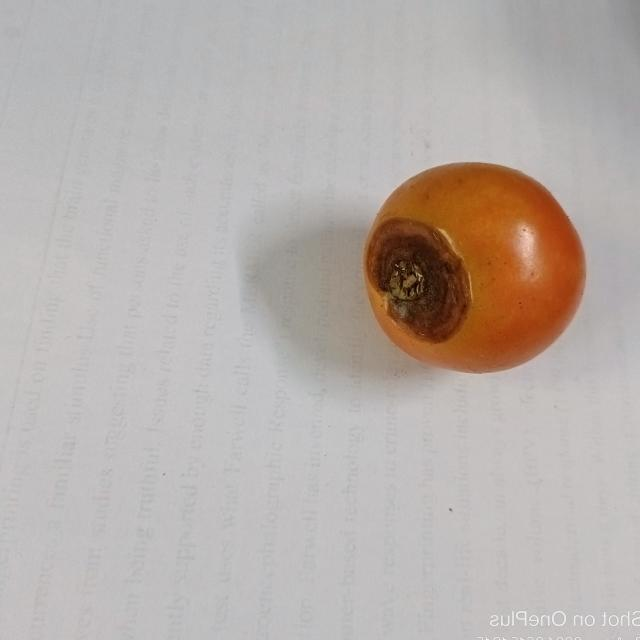Anthrocnose: (364, 214, 468, 344)
